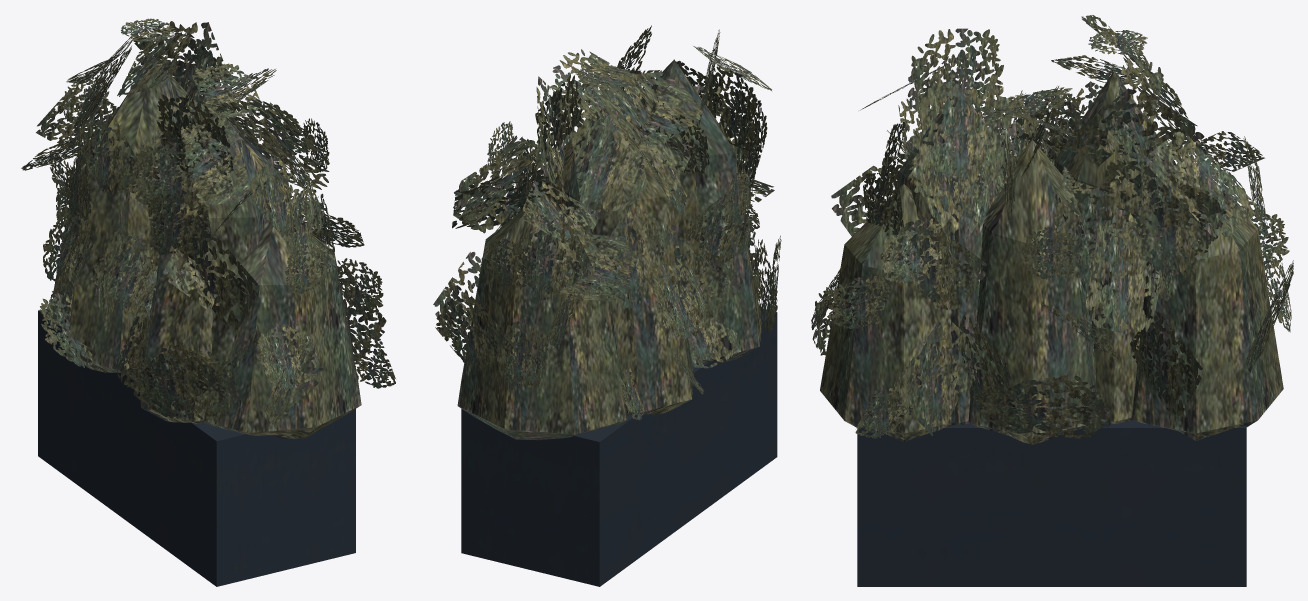
The model's file is SM_Molo_FiorieraAntracite_v2_LOD1.fbx.
3 views of the same model, side by side, from view 1: azimuth 30°, elevation 25°; view 2: azimuth 150°, elevation 25°; view 3: azimuth 270°, elevation 25° (orthographic). The views are drawn at different scales.
Parts seen in each view (by area): view 1: SM_Molo_FiorieraAntracite_v2_LOD1; view 2: SM_Molo_FiorieraAntracite_v2_LOD1; view 3: SM_Molo_FiorieraAntracite_v2_LOD1.
Part boxes in pixels (<box>): SM_Molo_FiorieraAntracite_v2_LOD1: <box>21,18,395,586</box>; SM_Molo_FiorieraAntracite_v2_LOD1: <box>433,25,781,586</box>; SM_Molo_FiorieraAntracite_v2_LOD1: <box>811,15,1293,586</box>.
Bounding box in the file's own units: 77 × 124 × 142.
Materials: 3 (3 with a texture image).
